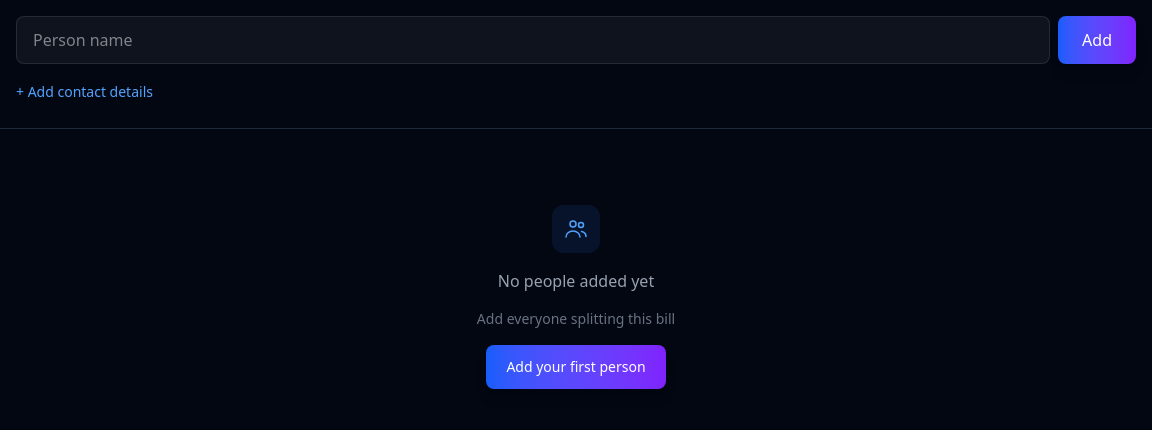
Test: PeoplePanel › shows error for empty name
Click the button "Add" at point(1097, 40), box [1058,16,1136,64]
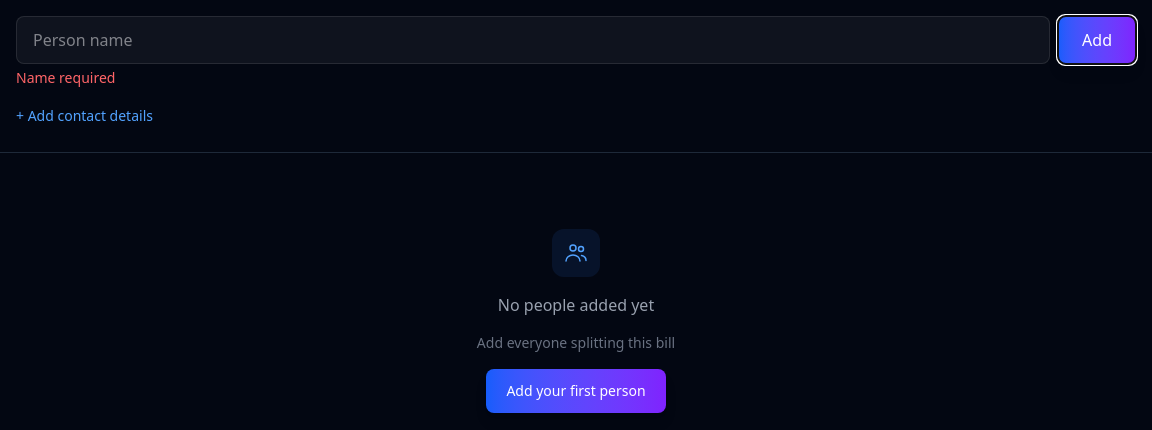
Check: the text "Name required" is shown, box [16,68,115,87]
